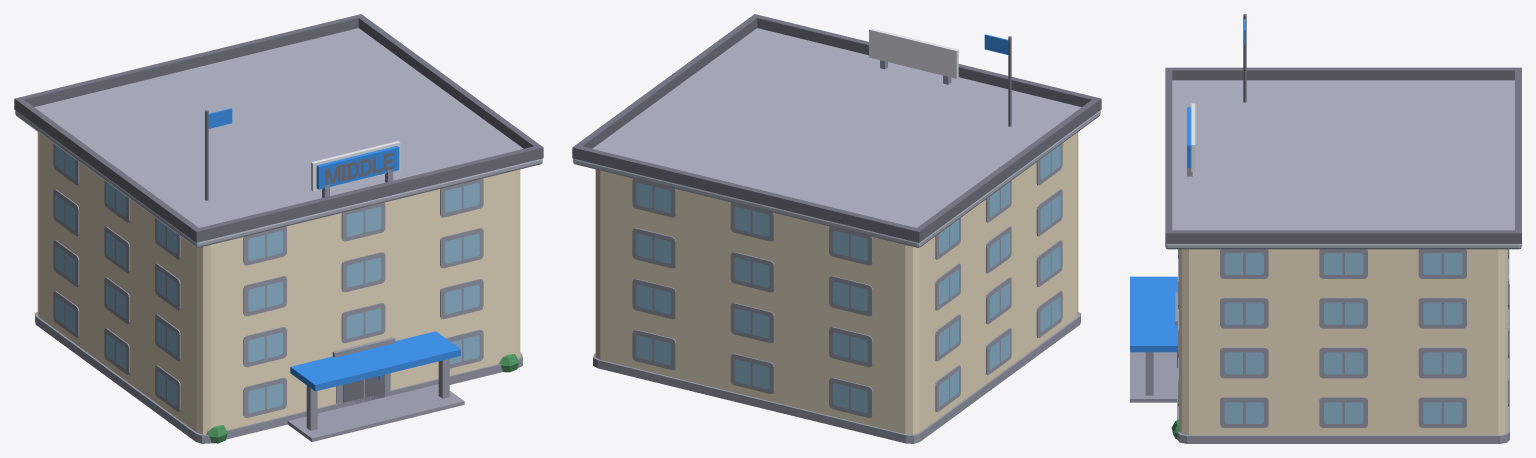
Rendered from middle-school-2x2-4f.glb.
3 views of the same model, side by side, from view 1: azimuth 30°, elevation 25°; view 2: azimuth 150°, elevation 25°; view 3: azimuth 270°, elevation 25° (orthographic). The views are drawn at different scales.
Parts seen in each view (by area): view 1: middle-school-2x2-4f; view 2: middle-school-2x2-4f; view 3: middle-school-2x2-4f.
Part boxes in pixels (left/top/right/bottom): middle-school-2x2-4f: left=14, top=14, right=543, bottom=443; middle-school-2x2-4f: left=572, top=14, right=1101, bottom=443; middle-school-2x2-4f: left=1130, top=14, right=1521, bottom=443.
Bounding box in the file's own units: 2 × 1.65 × 2.
1 material, 1 textured.
